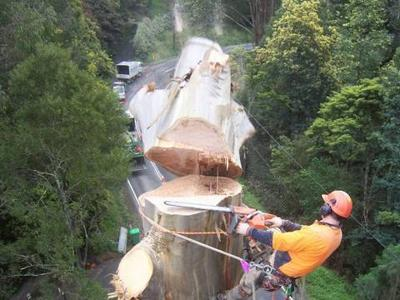person: (212, 191, 352, 300)
